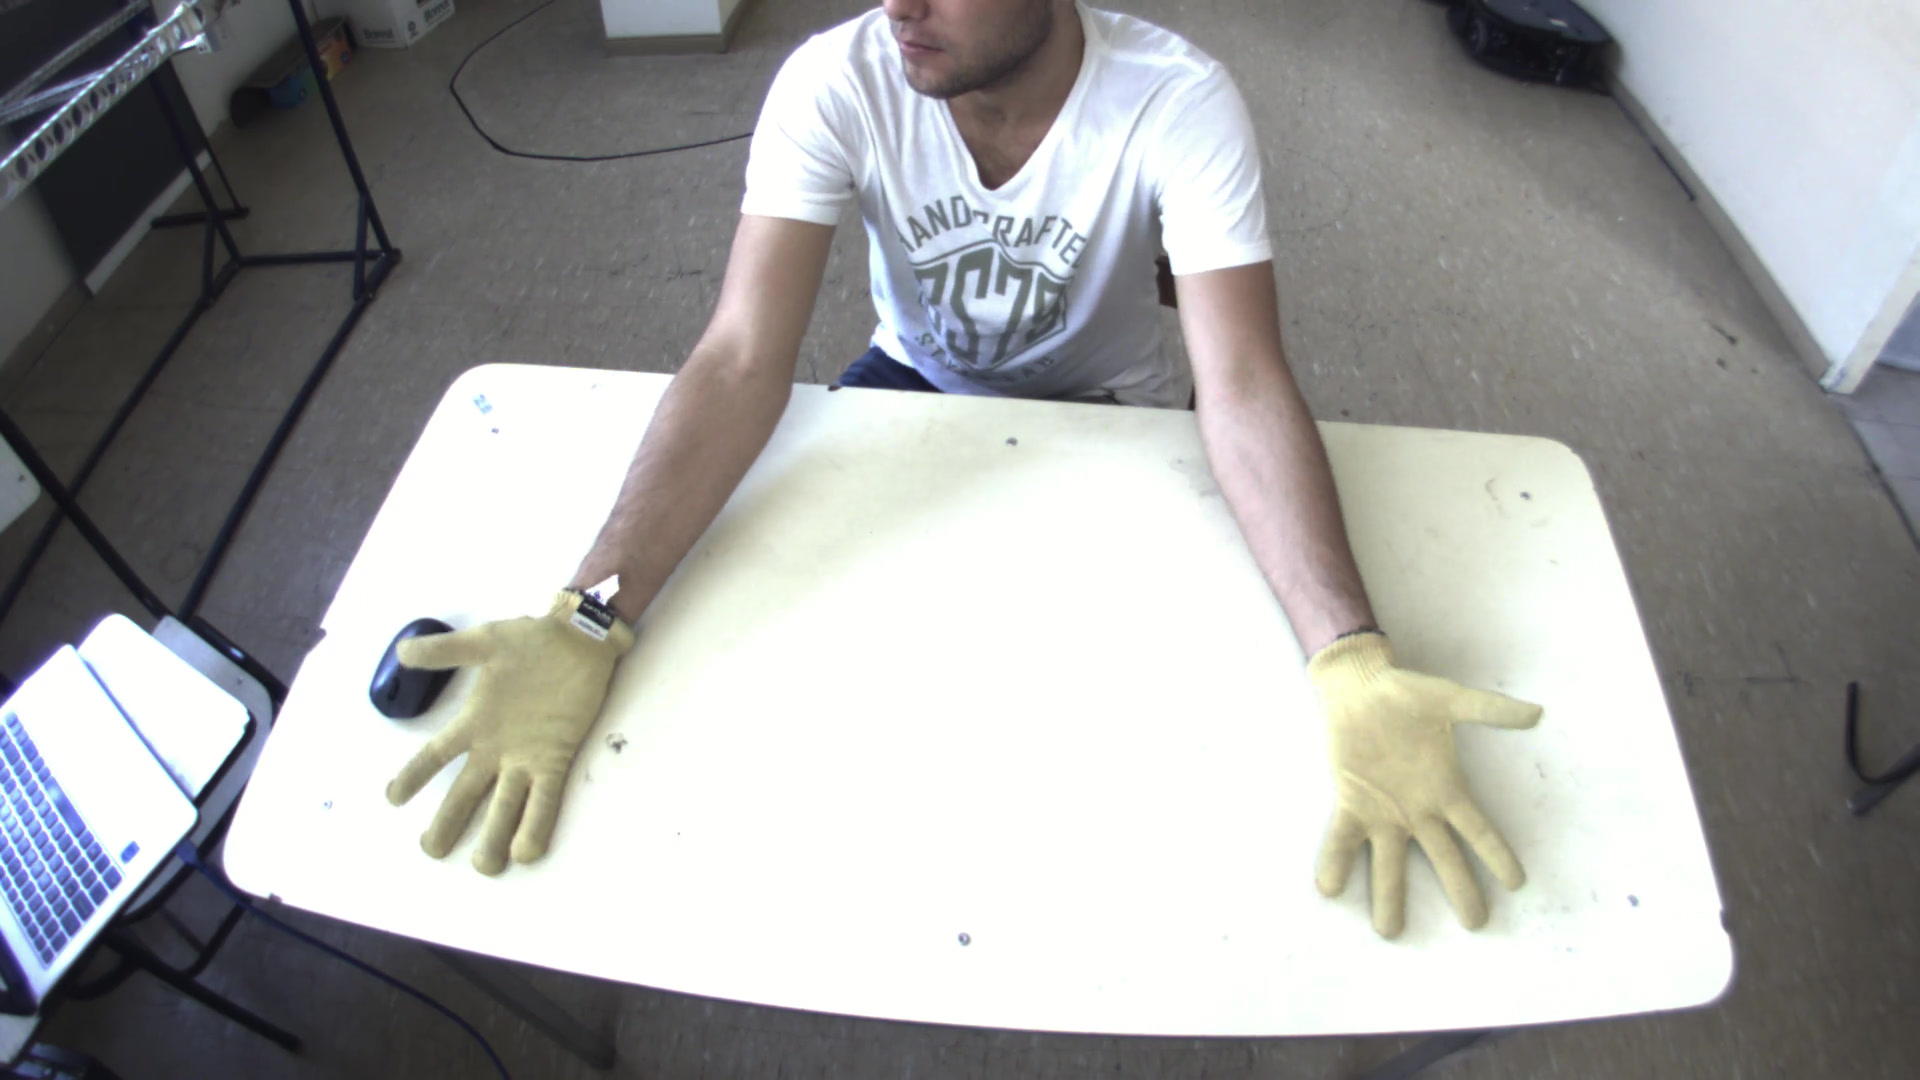hand: (352, 584, 638, 890), (1299, 621, 1563, 952)
